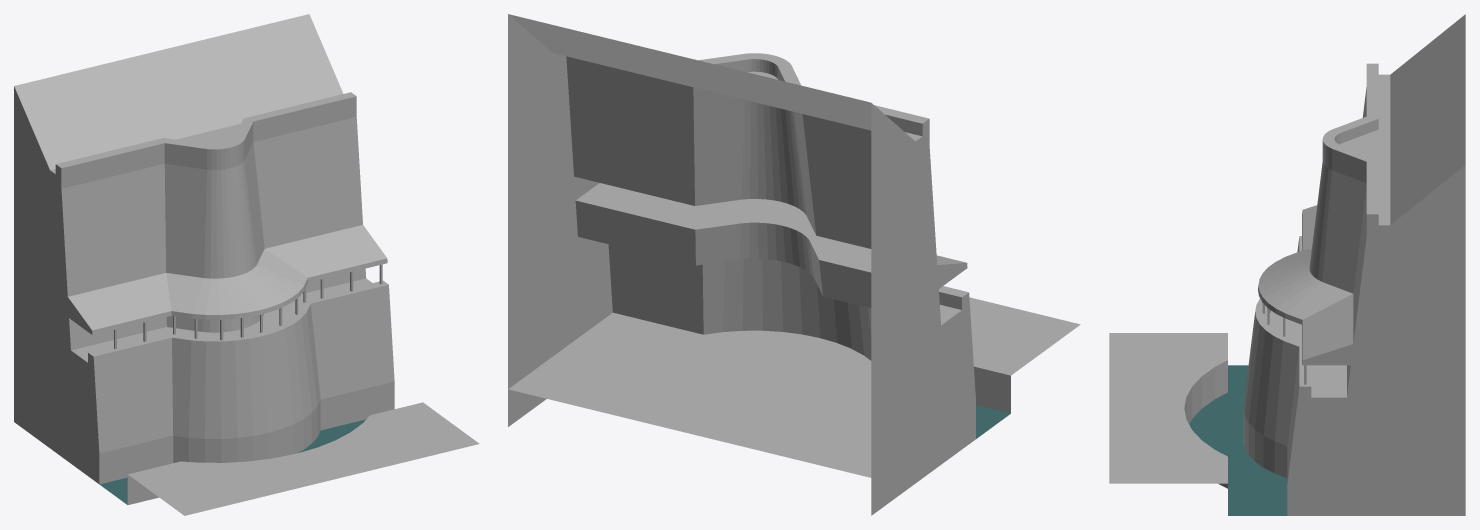
File: ccrw.obj
3 views of the same model, side by side, from view 1: azimuth 30°, elevation 25°; view 2: azimuth 150°, elevation 25°; view 3: azimuth 270°, elevation 25° (orthographic). The views are drawn at different scales.
Parts seen in each view (by area): view 1: ccrw; view 2: ccrw; view 3: ccrw.
Boxes of the visible parts, x1,y1,x2,y2 form: ccrw: (14,14,479,515); ccrw: (508,14,1080,515); ccrw: (1109,14,1465,515).
Bounding box in the file's own units: 30 × 32.63 × 30.
